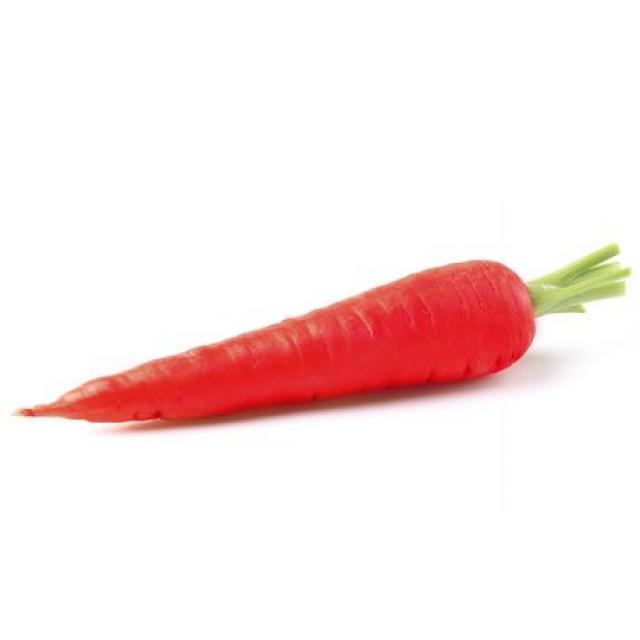Carrot: (5, 244, 640, 424)
